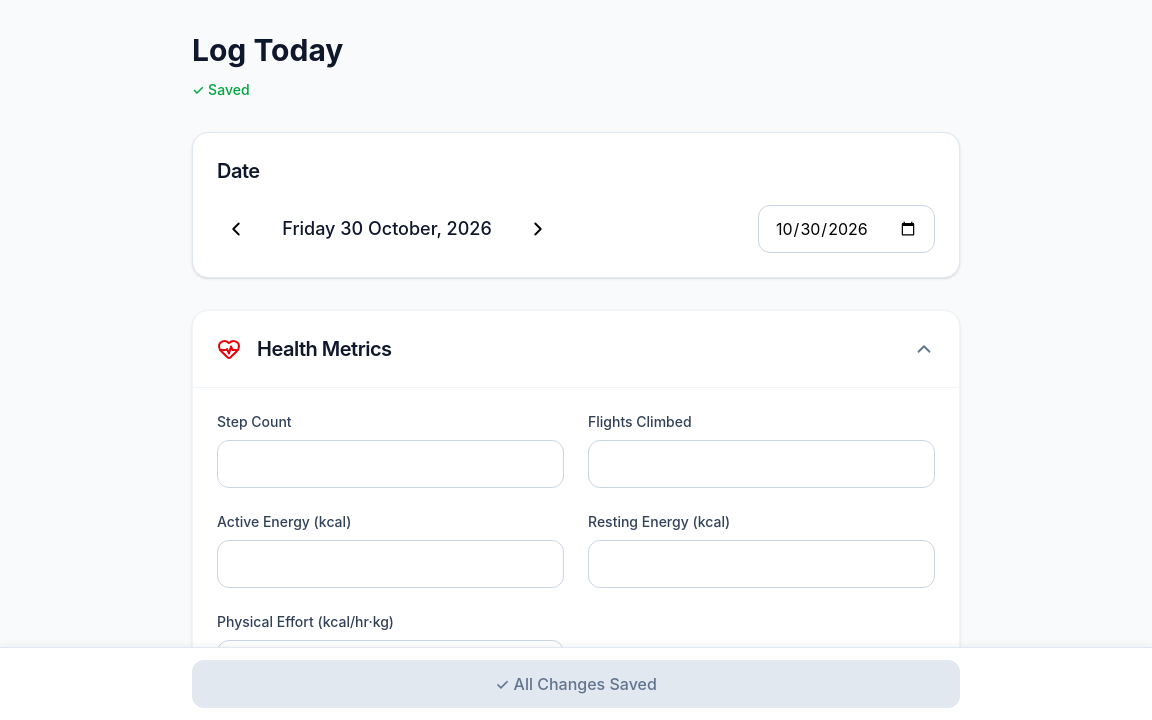
Scenario: LogHealthMetrics › handles save failure
Type "10000" into the number field labelled "Step Count".
click(390, 464); type("10000")  # box [217,440,564,488]
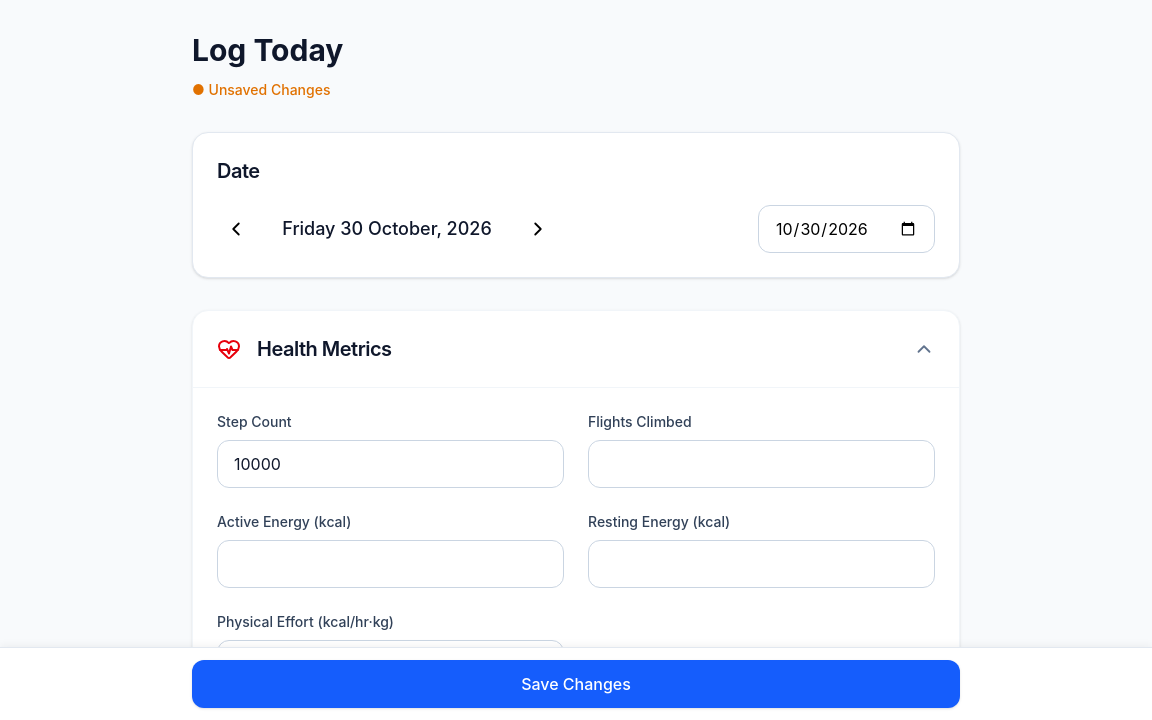
Click the button "Save Changes".
click(576, 684)  # box [192,660,960,708]
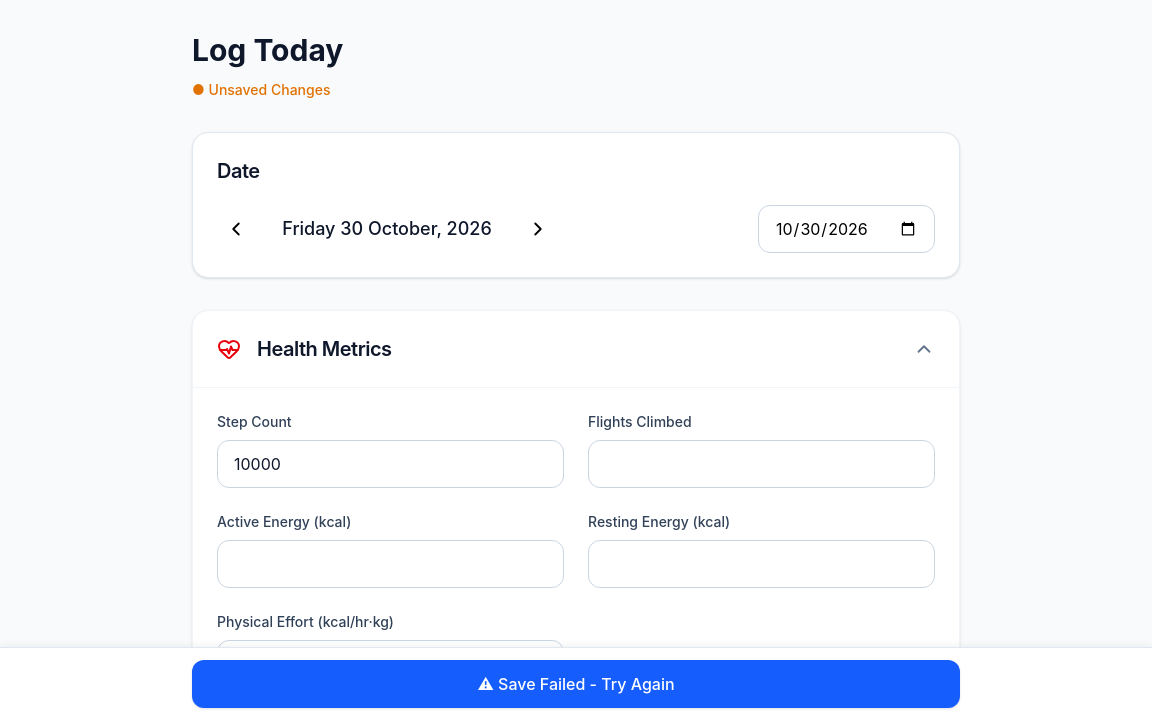
Expected: the button "⚠ Save Failed - Try Again" is shown, [192,660,960,708]
